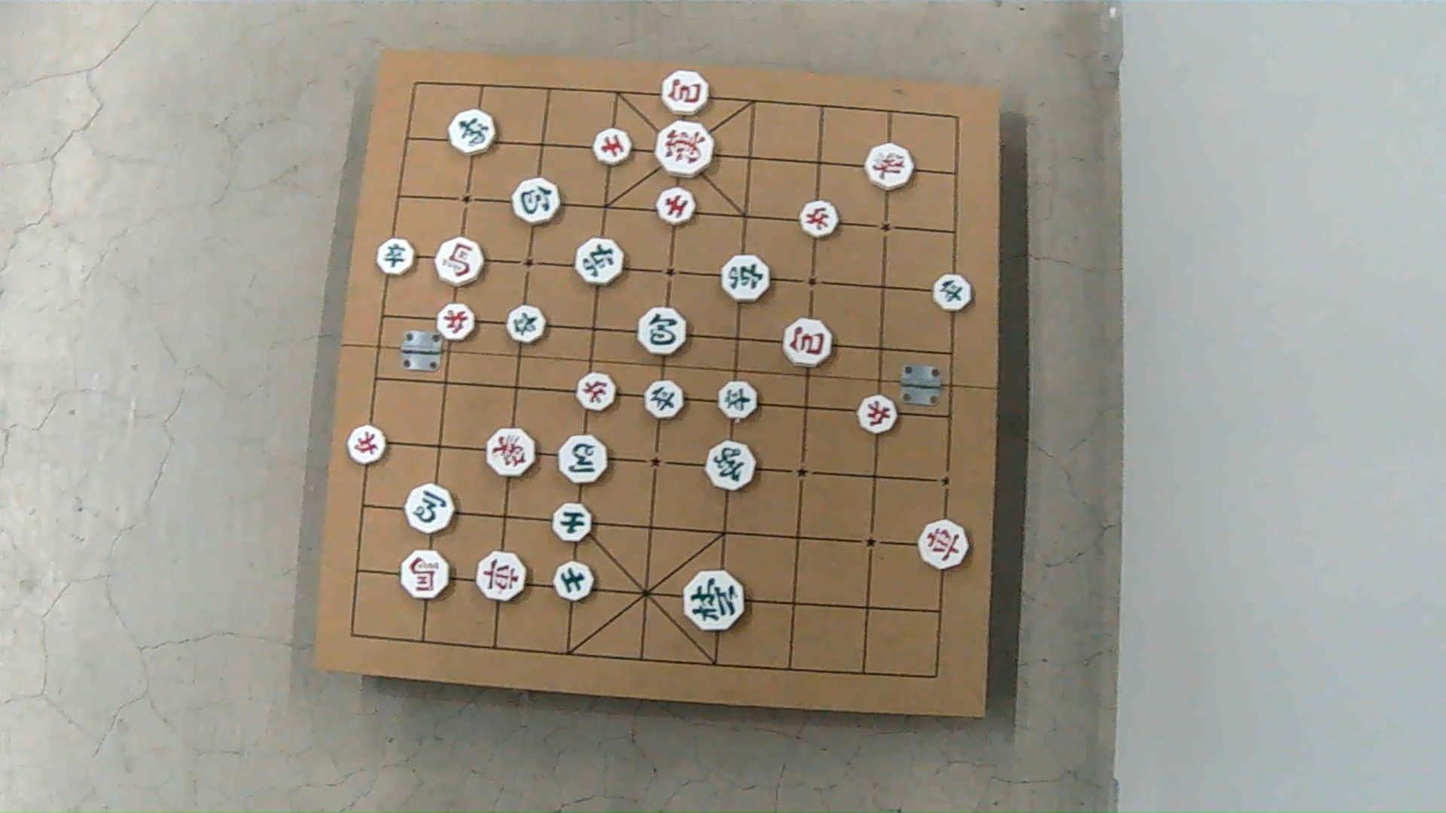cha_green: (578, 239, 627, 286), (725, 255, 773, 302)
cha_red: (918, 520, 969, 570), (475, 553, 525, 603)
jol_green: (643, 382, 682, 421), (719, 381, 759, 419), (507, 306, 545, 344), (934, 273, 973, 310), (377, 239, 416, 276)
jol_red: (344, 425, 383, 464), (858, 397, 896, 436), (578, 373, 617, 411), (799, 201, 839, 238), (438, 303, 477, 340)
ma_green: (405, 486, 454, 535), (558, 435, 607, 483)
ma_red: (436, 239, 485, 288), (401, 553, 450, 601)
po_green: (639, 306, 687, 355), (511, 178, 558, 224)
po_red: (785, 319, 832, 367), (664, 71, 712, 114)
sa_green: (552, 505, 591, 544), (554, 562, 593, 601)
sa_red: (595, 128, 633, 165), (655, 187, 693, 224)
sang_green: (705, 440, 755, 490), (450, 110, 496, 154)
sang_red: (486, 429, 535, 478), (865, 143, 913, 190)
wang_green: (684, 570, 746, 629)
wang_red: (659, 120, 716, 175)
